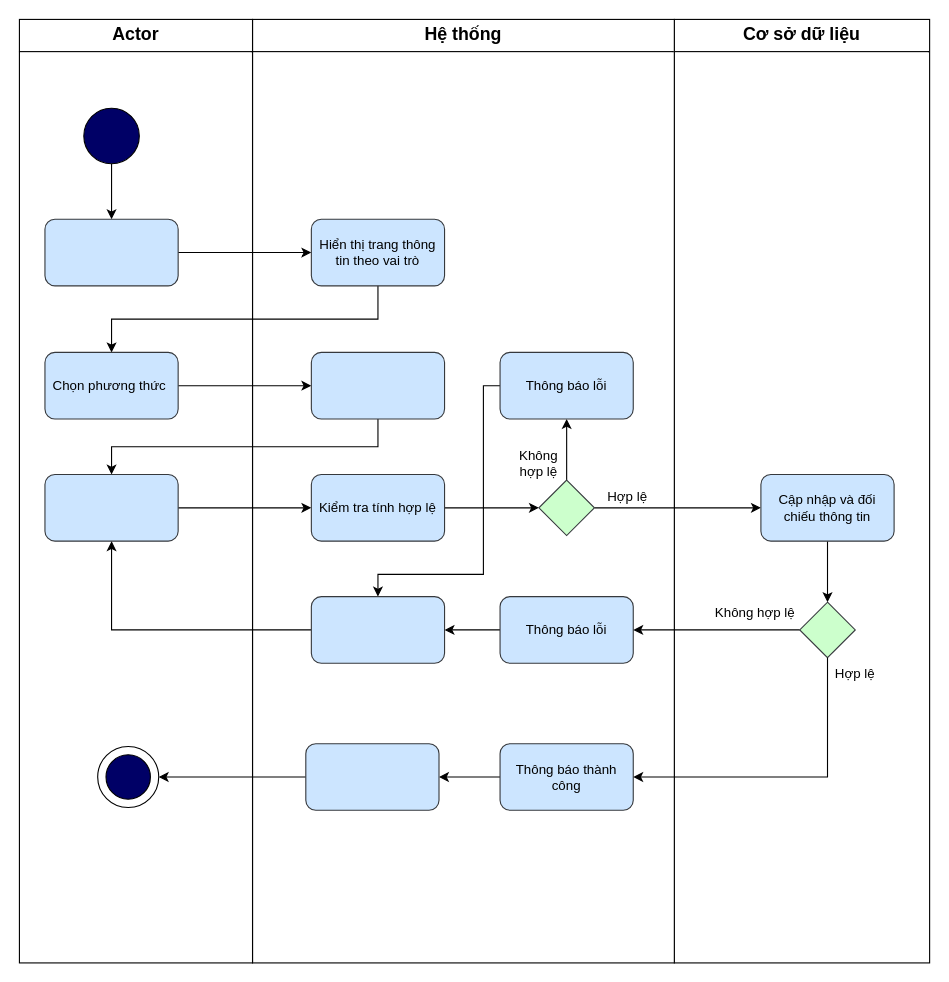
Some shapes in this 949 by 982 pixel diagram are drawn without their labels. The box of each missing label's shape, as (x1, y1, x2, y2) in pixels:
Cho phép nhập lại thông tin: (310, 596, 445, 663)
Chọn vai trò: (44, 218, 178, 286)
Hiển thị trang chức năng: (305, 743, 439, 810)
Nhập thông tin cần thiết: (44, 473, 178, 541)
Yêu cầu thông tin cần thiết: (310, 351, 445, 419)
